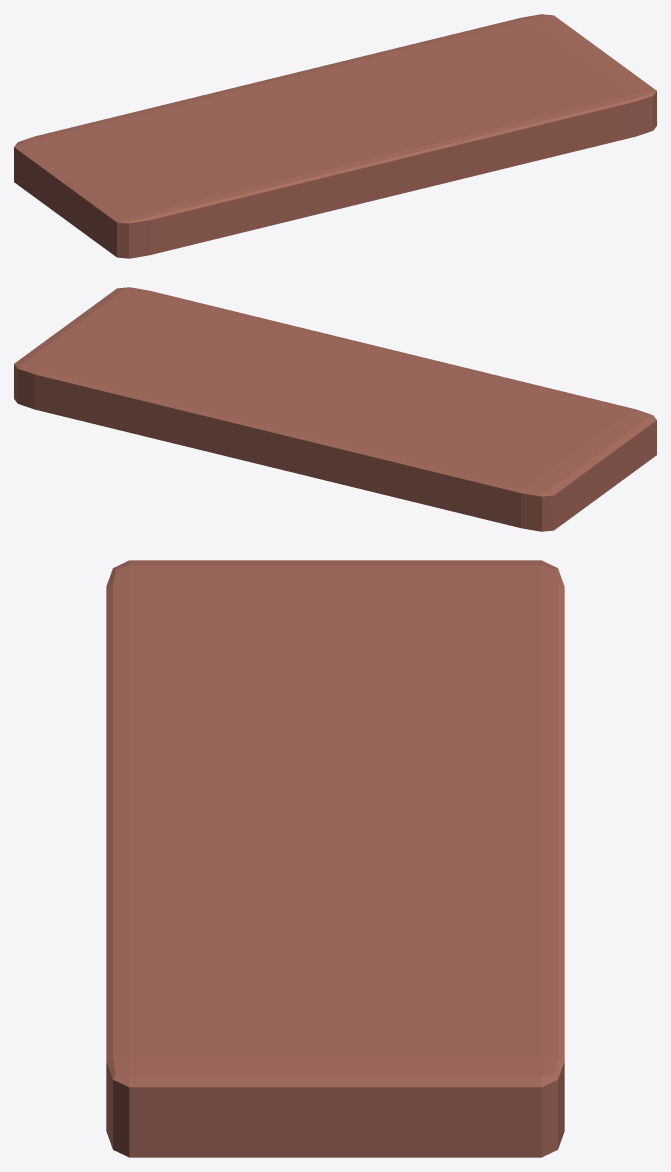
Rendered from Wall_shelf_001.glb.
The picture shows the model from 3 angles, top to bottom: view 1: azimuth 30°, elevation 25°; view 2: azimuth 150°, elevation 25°; view 3: azimuth 270°, elevation 25°; orthographic projection. The views are drawn at different scales.
Visible parts, largest first — view 1: Wall_shelf_001; view 2: Wall_shelf_001; view 3: Wall_shelf_001.
Boxes of the visible parts, x1,y1,x2,y2 form: Wall_shelf_001: (14, 14, 656, 258); Wall_shelf_001: (14, 287, 656, 531); Wall_shelf_001: (106, 560, 564, 1157).
Bounding box in the file's own units: 2.29 × 0.1581 × 0.8425.
